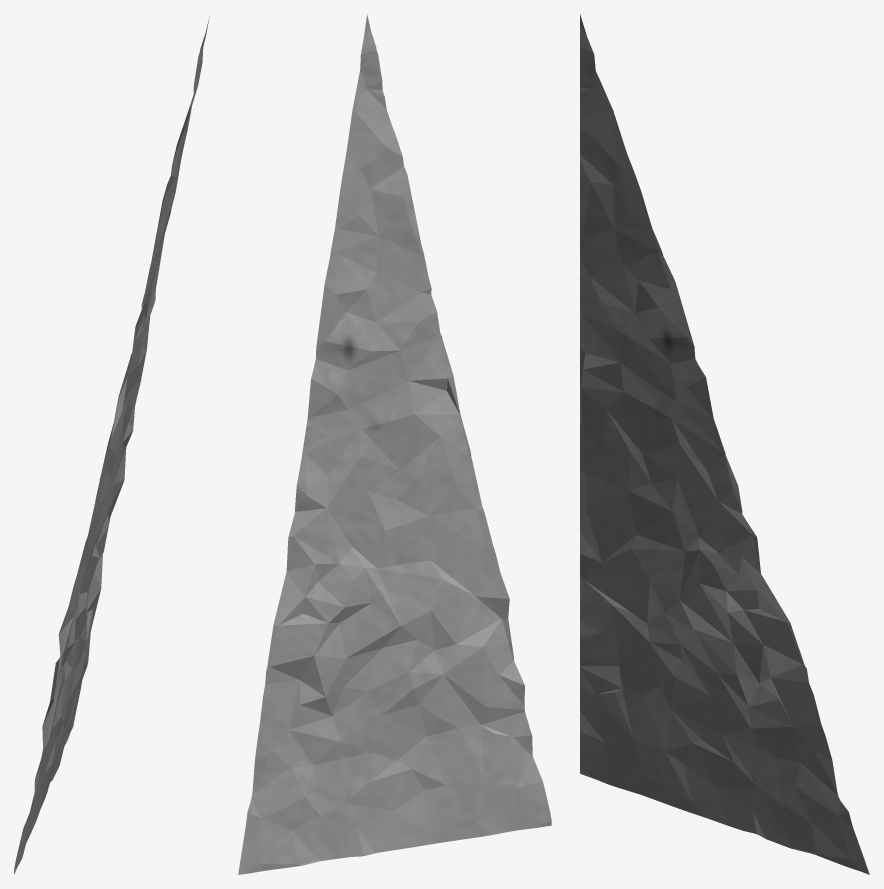
3 views of the same model, side by side, from view 1: azimuth 30°, elevation 25°; view 2: azimuth 150°, elevation 25°; view 3: azimuth 270°, elevation 25° (orthographic). The views are drawn at different scales.
Size of the model in its own units: 0.1538 by 0.6101 by 0.1861.
1 material, 1 textured.
